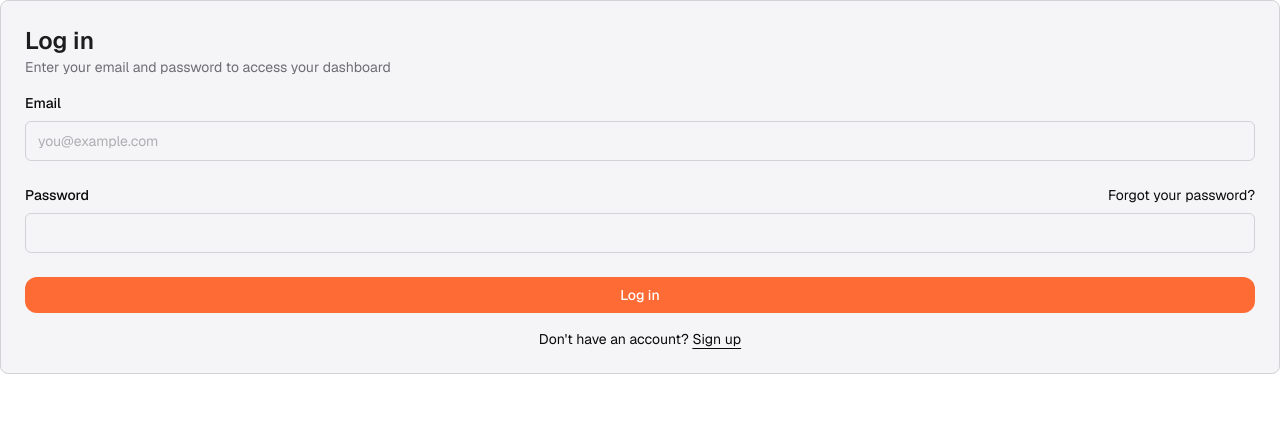
LoginForm › shows generic error for unexpected failures
Type "test@example.com" into the field labelled "Email" at (640, 141), box [25,121,1255,161]
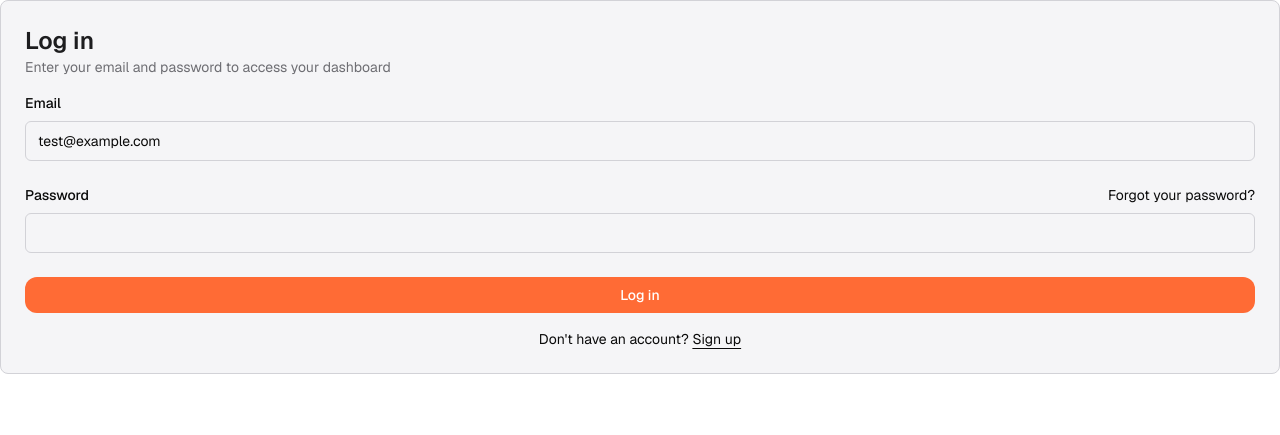
Type "password123" into the password field labelled "Password" at (640, 233), box [25,213,1255,253]
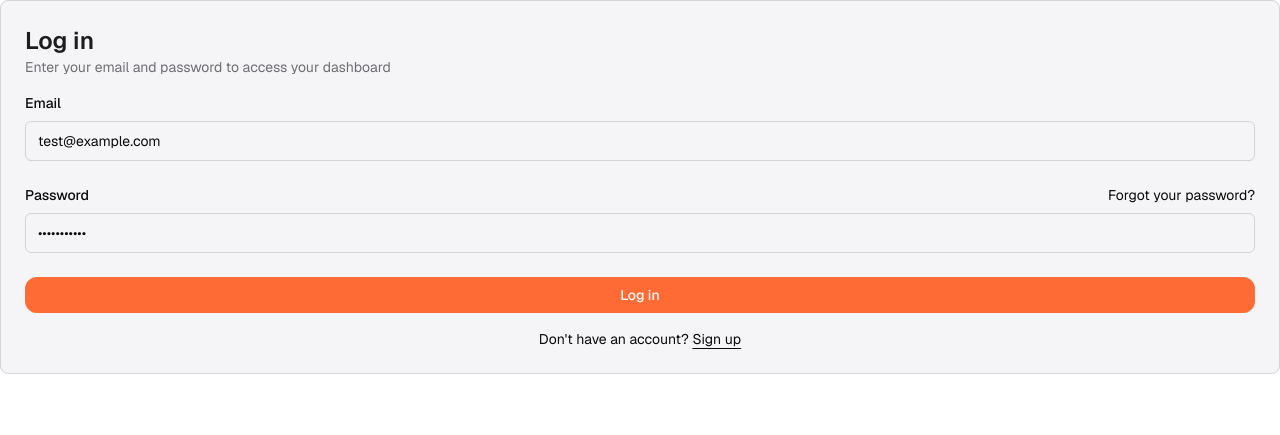
Click the button "Log in" at (640, 295), box [25,277,1255,313]
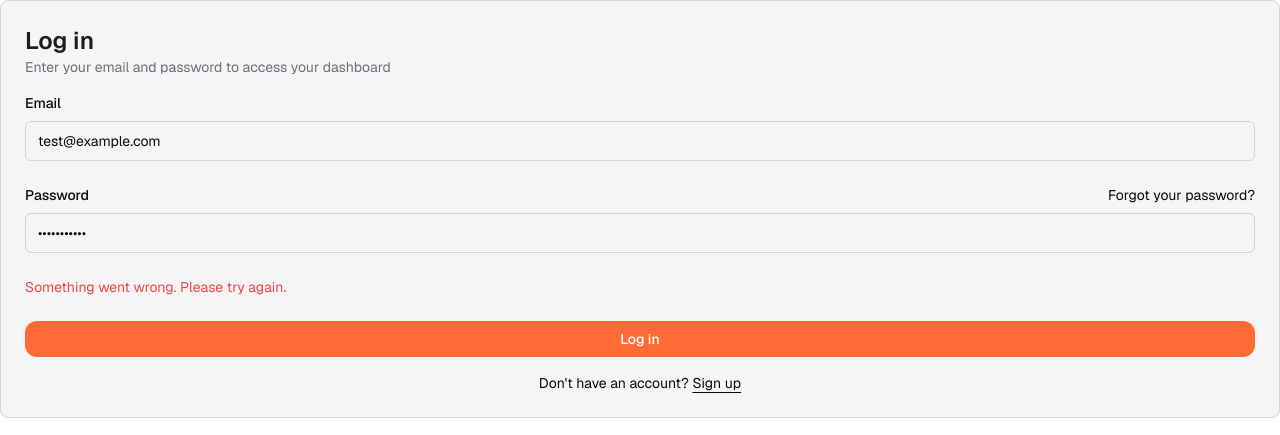
Check: the message reads "Something went wrong. Please try again.", box [25,278,286,296]
